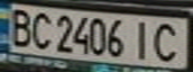0: (87, 16, 109, 56)
2: (51, 11, 75, 53)
4: (69, 13, 90, 55)
6: (106, 16, 130, 60)
B: (3, 6, 36, 48)
C: (148, 19, 187, 63), (27, 9, 54, 51)
I: (127, 18, 160, 61)
